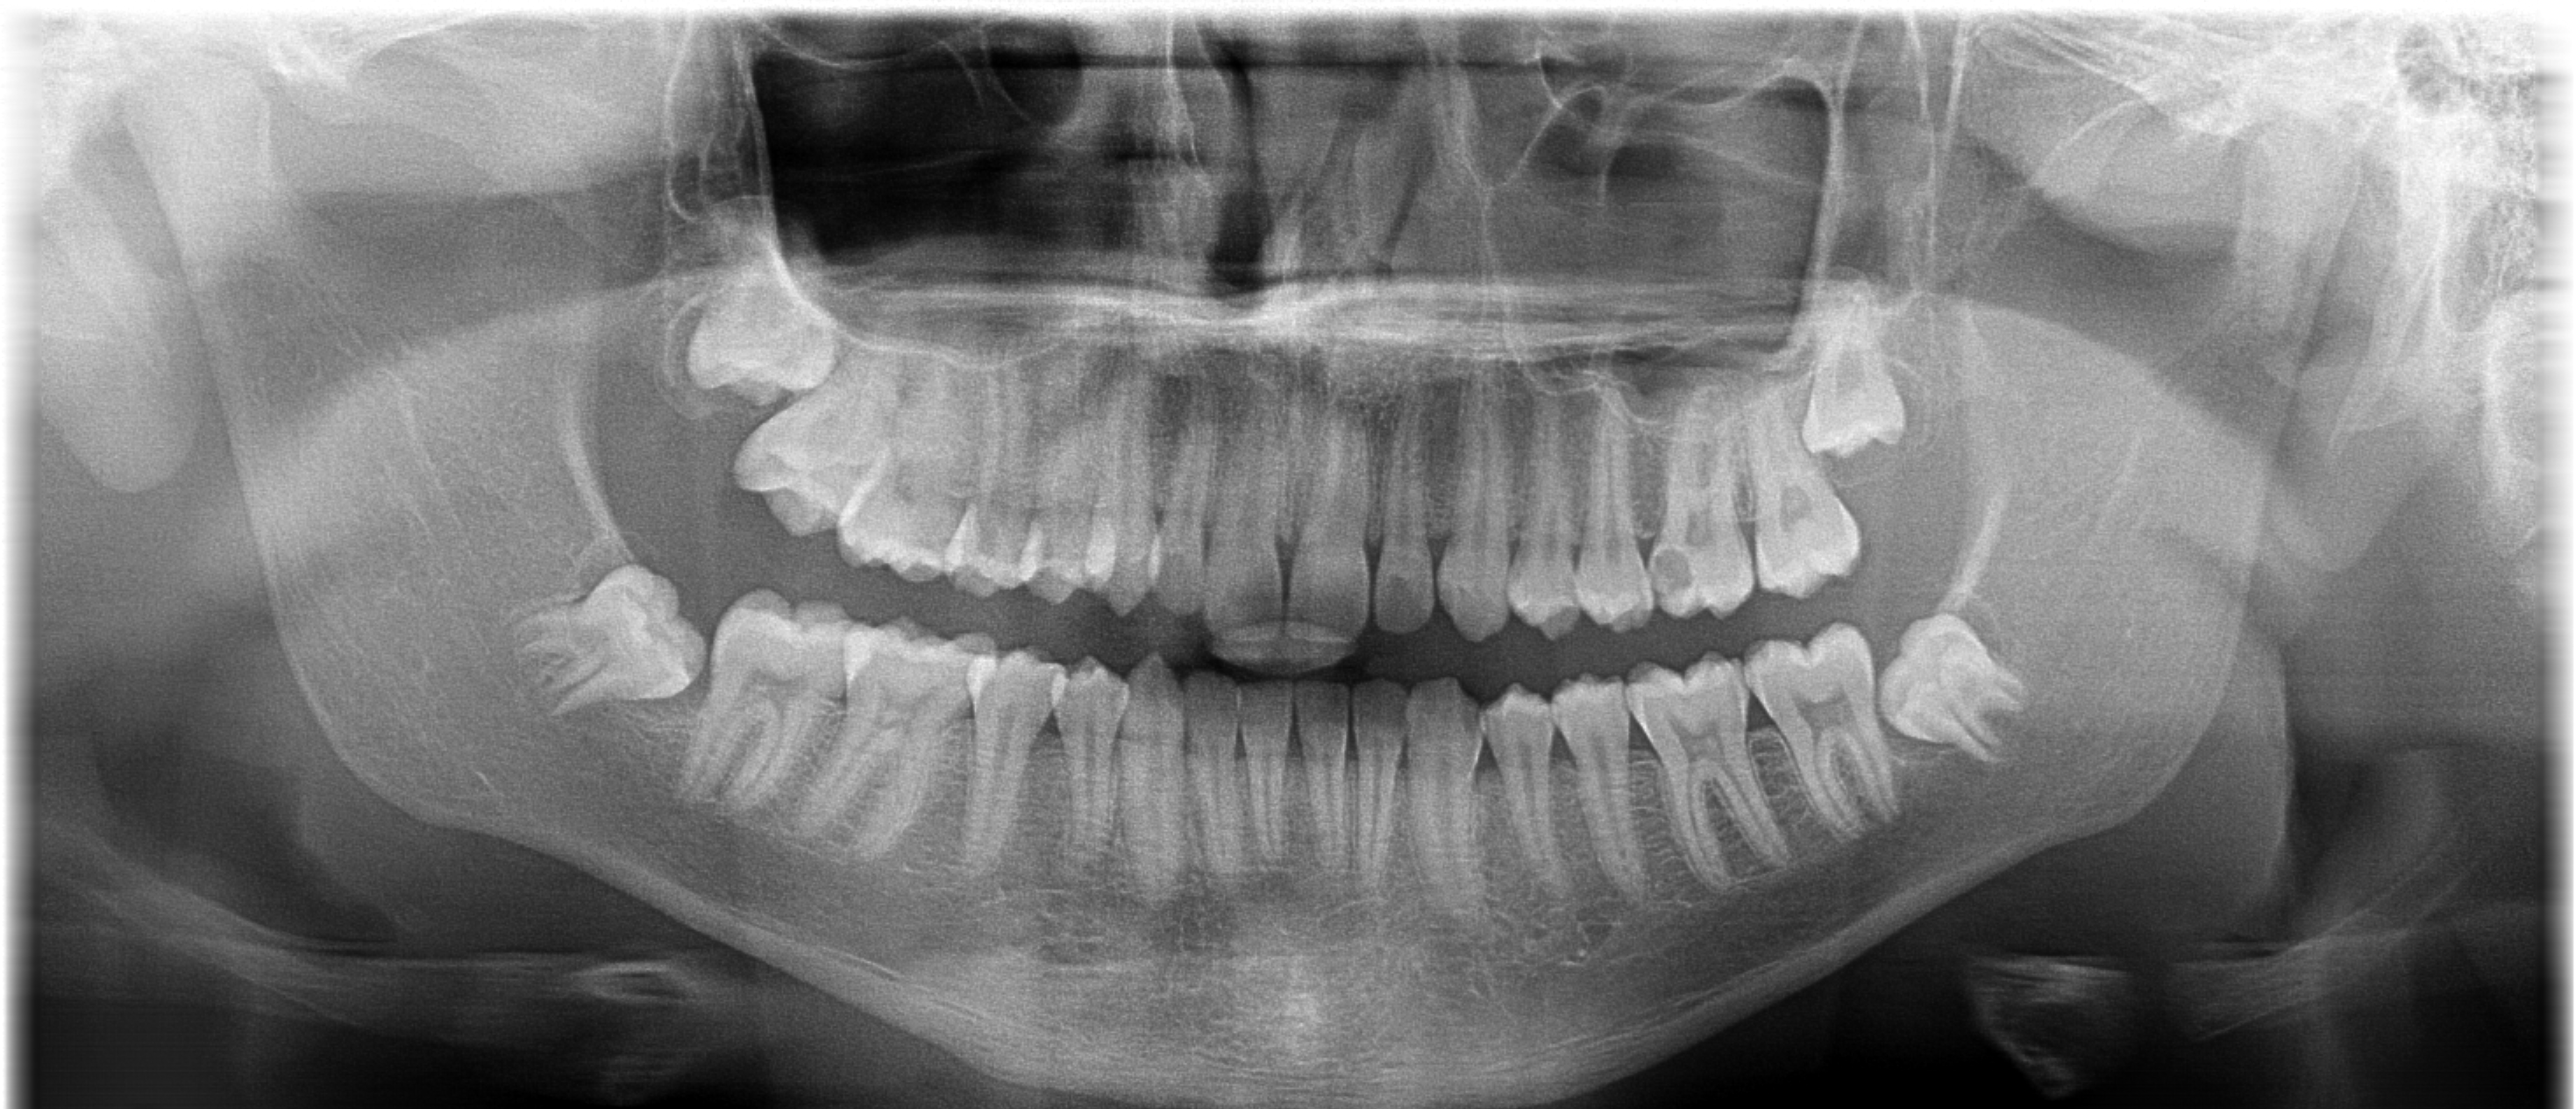cordal: (483, 527, 723, 744), (667, 207, 871, 424), (1768, 266, 1958, 495), (1856, 603, 2057, 790)
